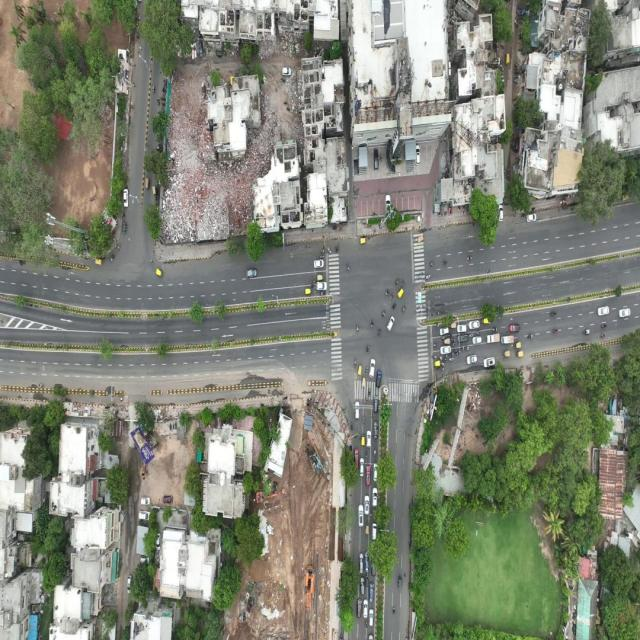3W: (397, 575, 403, 591), (121, 222, 128, 235), (397, 286, 404, 298), (361, 374, 367, 387), (156, 267, 163, 278), (365, 522, 370, 537), (481, 317, 490, 325), (416, 235, 424, 244), (144, 177, 150, 189), (94, 258, 102, 267), (357, 363, 362, 377), (514, 341, 521, 350), (361, 432, 365, 446), (433, 360, 440, 368), (517, 350, 524, 358), (504, 349, 511, 357), (316, 274, 324, 281), (365, 575, 369, 588), (152, 186, 157, 196), (449, 322, 456, 329), (360, 237, 366, 245), (443, 338, 451, 344), (305, 288, 311, 294)
Cars: (617, 308, 632, 320), (596, 306, 610, 318), (368, 582, 375, 604), (358, 504, 364, 528), (369, 359, 376, 378), (368, 608, 375, 627), (483, 356, 495, 367), (386, 315, 394, 331), (509, 323, 521, 333), (372, 487, 378, 507), (364, 495, 370, 515), (316, 280, 328, 290), (456, 333, 468, 343), (356, 598, 362, 618), (364, 552, 370, 572), (354, 448, 359, 471), (362, 599, 368, 618), (122, 188, 128, 207), (466, 354, 477, 364), (365, 464, 370, 486), (314, 258, 324, 269), (498, 204, 504, 222), (375, 368, 381, 386), (354, 401, 360, 419), (371, 522, 377, 540), (374, 420, 379, 440), (373, 462, 378, 482), (247, 268, 257, 278), (358, 552, 363, 572), (469, 320, 480, 329), (440, 346, 451, 355), (360, 577, 365, 596), (527, 213, 537, 222), (439, 327, 449, 336), (366, 430, 371, 448), (472, 336, 482, 344), (374, 396, 379, 412), (360, 458, 364, 478), (457, 325, 467, 332)
LCV: (486, 333, 500, 344), (501, 335, 515, 344)
M2W: (354, 322, 360, 334), (549, 310, 557, 319), (151, 83, 156, 96), (370, 315, 374, 331), (381, 309, 386, 319), (527, 333, 534, 340), (353, 356, 357, 368), (582, 329, 590, 335), (377, 327, 382, 336), (349, 422, 354, 431), (389, 292, 394, 301), (326, 247, 332, 254), (334, 246, 340, 253), (319, 253, 325, 260), (319, 291, 326, 297), (418, 271, 424, 278), (116, 244, 120, 254), (365, 344, 369, 354), (373, 447, 377, 457), (600, 324, 608, 329), (392, 302, 397, 310), (346, 263, 350, 272), (365, 366, 369, 375), (364, 620, 368, 629), (600, 333, 606, 339), (491, 327, 497, 333), (475, 330, 481, 336), (464, 345, 470, 351), (458, 346, 464, 352), (395, 277, 399, 286), (310, 280, 317, 285), (551, 328, 558, 333), (401, 306, 406, 313), (385, 289, 390, 296), (400, 280, 405, 287), (426, 273, 431, 280), (362, 416, 366, 424), (122, 212, 125, 222), (319, 249, 325, 254), (364, 396, 367, 406), (468, 333, 474, 338), (440, 336, 446, 341), (450, 337, 455, 343), (466, 256, 472, 261), (521, 213, 526, 219), (393, 606, 396, 615), (449, 357, 454, 362), (438, 355, 443, 360), (370, 510, 373, 518), (450, 343, 456, 347), (452, 348, 458, 352), (443, 354, 449, 358), (432, 356, 438, 360), (441, 362, 447, 366), (430, 260, 434, 266), (366, 451, 368, 462), (368, 388, 370, 398), (433, 344, 438, 348), (448, 333, 453, 337), (455, 352, 460, 356), (442, 261, 447, 265), (449, 353, 454, 356), (442, 358, 447, 361)
